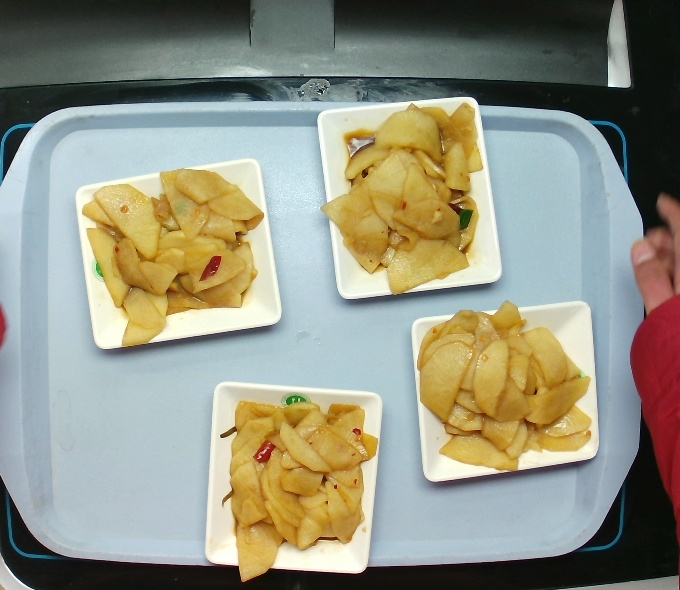wcq-YanLuoBo: (411, 291, 596, 484), (218, 388, 379, 579), (86, 171, 257, 350), (335, 112, 479, 289)
